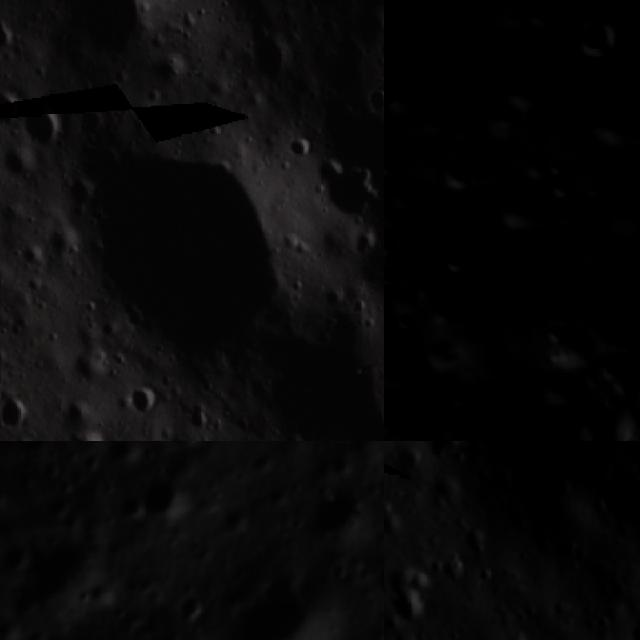crater: (73, 149, 290, 356), (384, 441, 640, 545), (0, 521, 131, 640), (214, 559, 353, 640), (60, 0, 154, 61), (305, 481, 372, 546), (318, 158, 379, 223), (384, 567, 439, 635), (525, 363, 584, 422), (576, 97, 636, 155), (488, 185, 547, 243), (140, 469, 199, 526), (562, 225, 617, 281), (432, 240, 483, 291), (22, 106, 59, 158), (168, 582, 208, 630), (435, 154, 480, 195), (384, 5, 423, 51), (484, 98, 525, 140), (574, 34, 614, 75), (0, 390, 33, 437), (384, 170, 417, 216), (549, 170, 584, 205), (419, 441, 468, 466), (124, 385, 158, 420), (510, 150, 544, 184), (590, 352, 624, 386), (384, 503, 409, 549), (617, 290, 640, 331), (368, 555, 384, 606), (384, 217, 399, 270), (3, 441, 52, 457), (60, 402, 92, 426), (495, 621, 535, 640), (289, 137, 316, 165), (63, 426, 109, 441), (474, 560, 498, 587), (0, 94, 17, 131), (546, 158, 570, 182), (160, 441, 206, 452), (367, 89, 384, 118), (636, 254, 640, 297)
